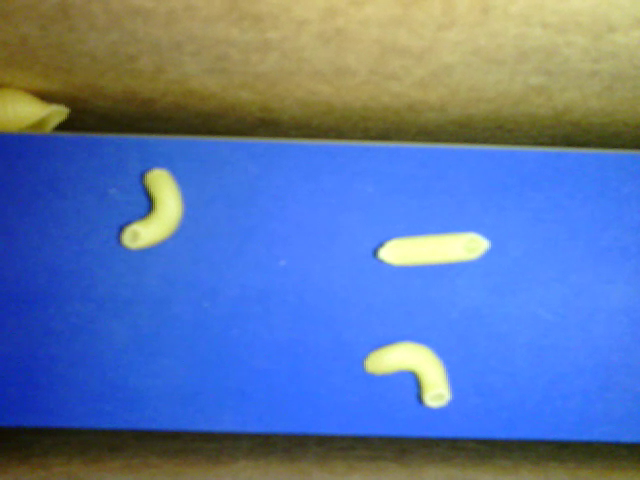elbow: (360, 330, 454, 409), (115, 167, 184, 254)
penne: (373, 230, 496, 272)
shell: (2, 85, 69, 134)
